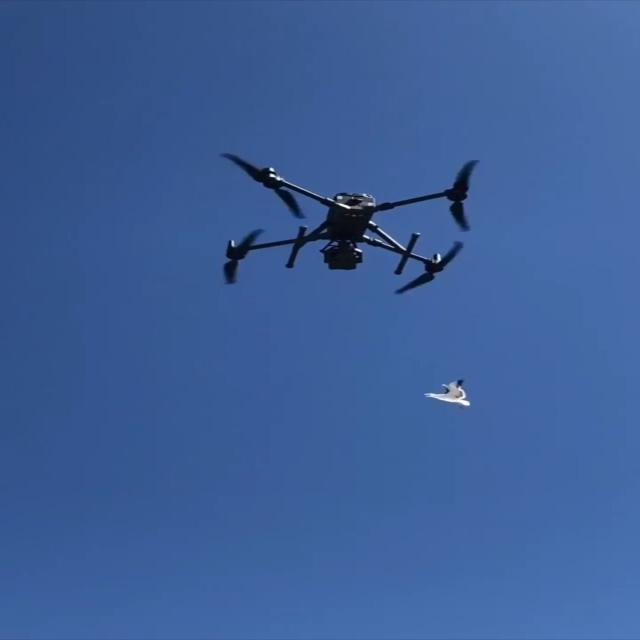bird: (422, 378, 470, 408)
drone: (218, 152, 480, 294)
